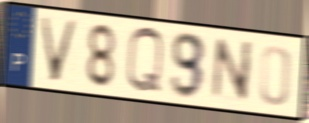0: (258, 43, 293, 108)
8: (85, 21, 119, 90)
9: (168, 30, 210, 102)
N: (209, 37, 256, 105)
Q: (124, 24, 166, 97)
V: (37, 15, 82, 85)
